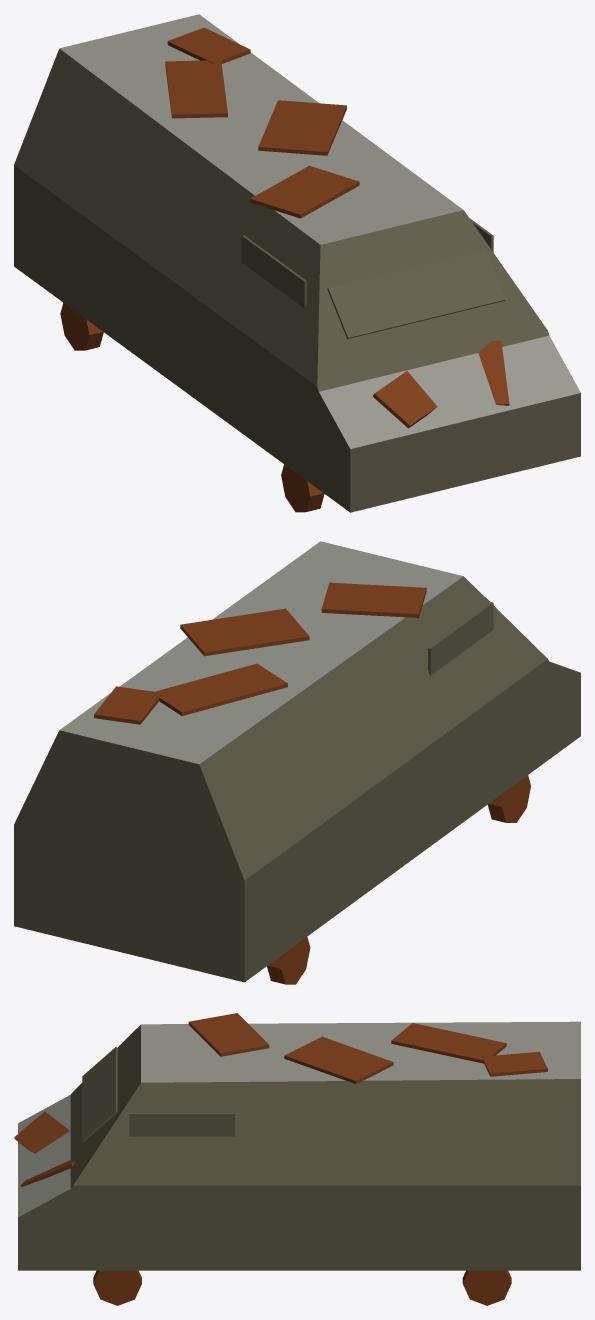
The model's file is SM_CocheCivil_Furgoneta_v4_LOD0.fbx.
3 views of the same model, one above another, from view 1: azimuth 30°, elevation 25°; view 2: azimuth 150°, elevation 25°; view 3: azimuth 270°, elevation 25° (orthographic). The views are drawn at different scales.
Visible parts, largest first — view 1: SM_coche_civil_v14_LOD0; view 2: SM_coche_civil_v14_LOD0; view 3: SM_coche_civil_v14_LOD0.
Boxes of the visible parts, x1,y1,x2,y2 form: SM_coche_civil_v14_LOD0: [14, 14, 580, 512]; SM_coche_civil_v14_LOD0: [14, 541, 580, 984]; SM_coche_civil_v14_LOD0: [14, 1013, 580, 1305].
Bounding box in the file's own units: 1.9 × 2.02 × 4.83.
